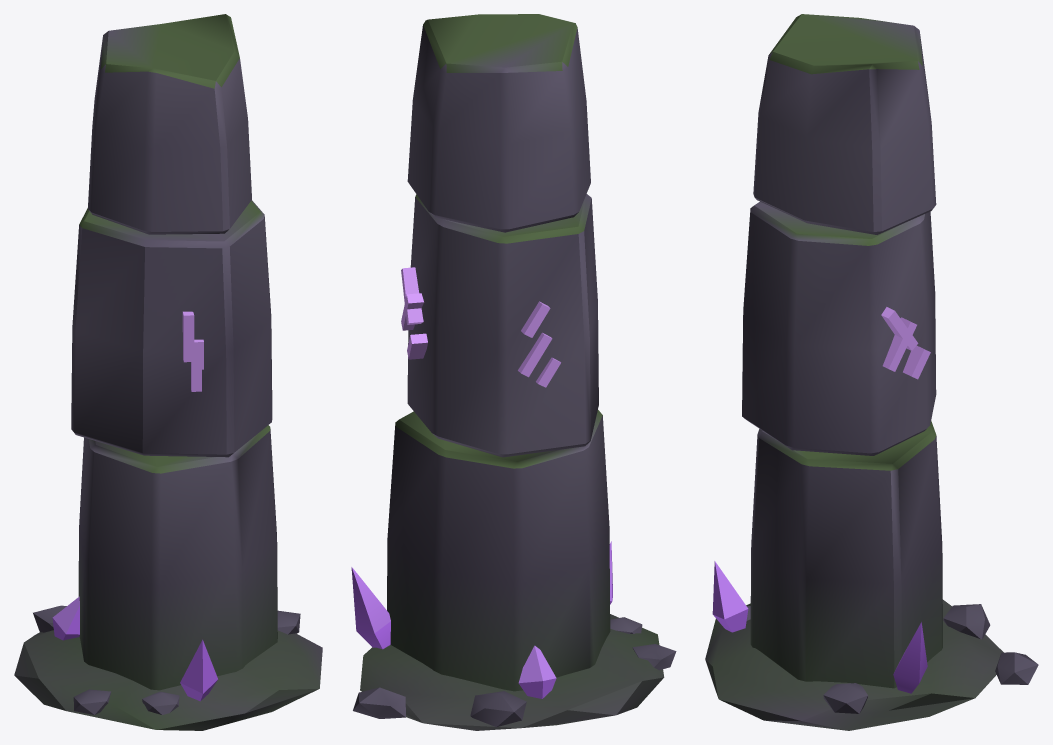
File: den_pillar.glb
3 views of the same model, side by side, from view 1: azimuth 30°, elevation 25°; view 2: azimuth 150°, elevation 25°; view 3: azimuth 270°, elevation 25° (orthographic). The views are drawn at different scales.
Parts seen in each view (by area): view 1: den_pillar, den_pillar_runes; view 2: den_pillar, den_pillar_runes; view 3: den_pillar, den_pillar_runes.
Boxes of the visible parts, x1,y1,x2,y2 form: den_pillar: (14, 14, 322, 730); den_pillar_runes: (52, 311, 218, 701); den_pillar: (353, 14, 676, 730); den_pillar_runes: (351, 267, 612, 698); den_pillar: (705, 14, 1038, 730); den_pillar_runes: (712, 307, 930, 693).
Bounding box in the file's own units: 2.61 × 6.22 × 2.89.
